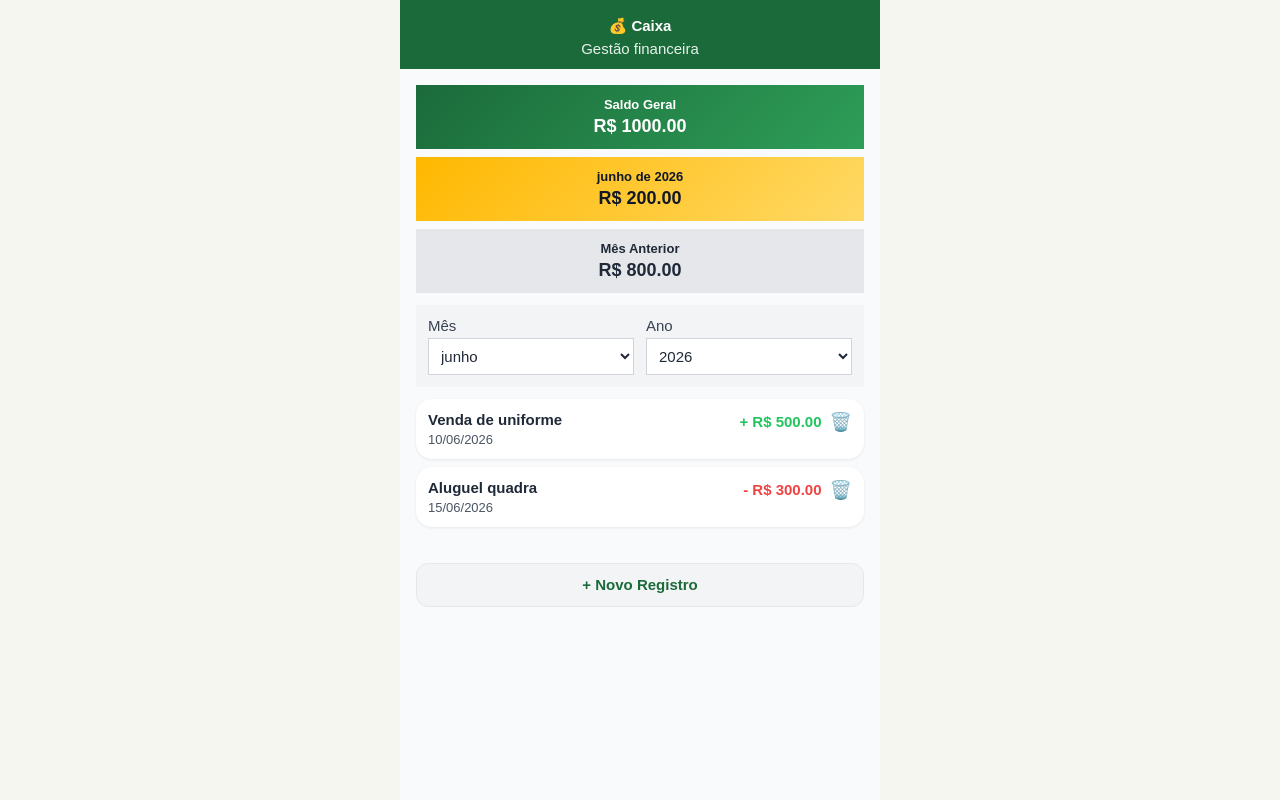
FinancialScreen › opens delete confirmation when delete button clicked
The image size is (1280, 800).
Expected: the heading "Venda de uniforme" is shown, [428,410,562,428]
Click the button named "Excluir" at (841, 422), box [830,410,852,432]
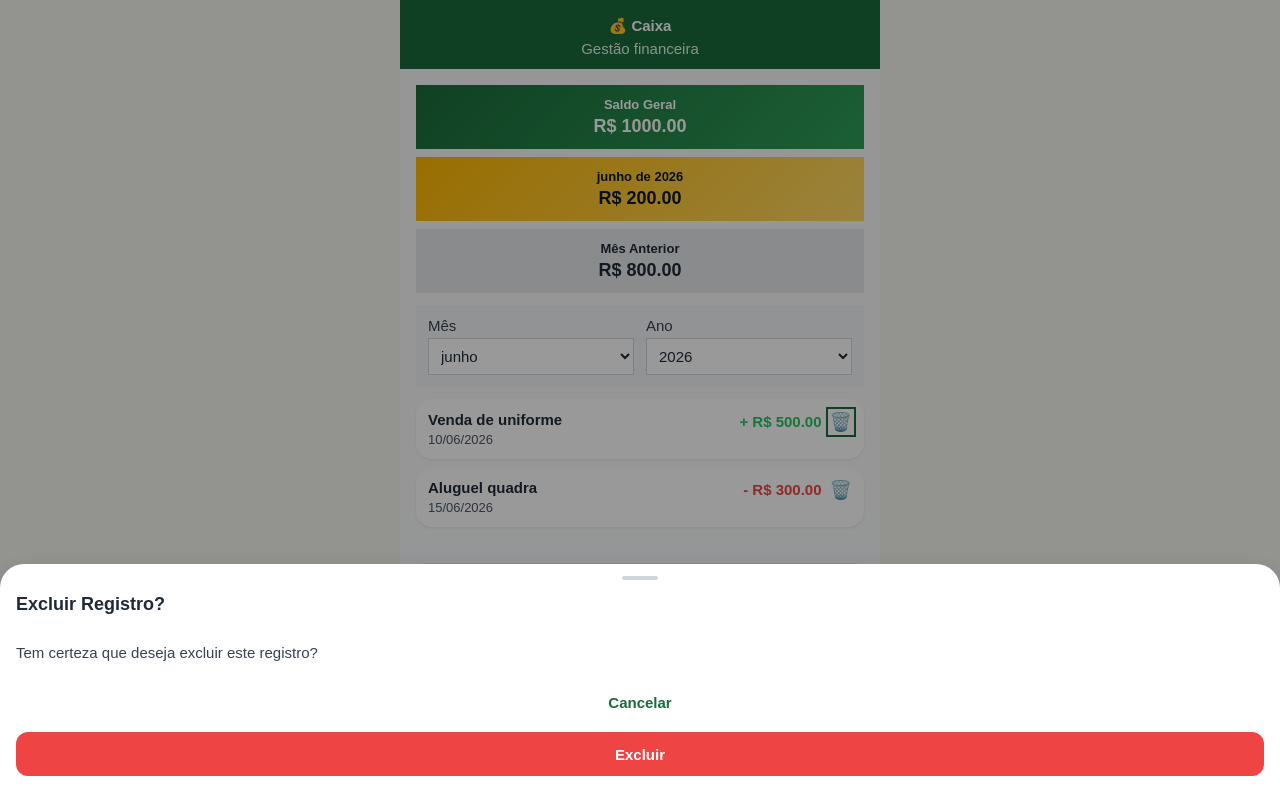
Now the heading "Excluir Registro?" is shown, box [16,594,165,614]
